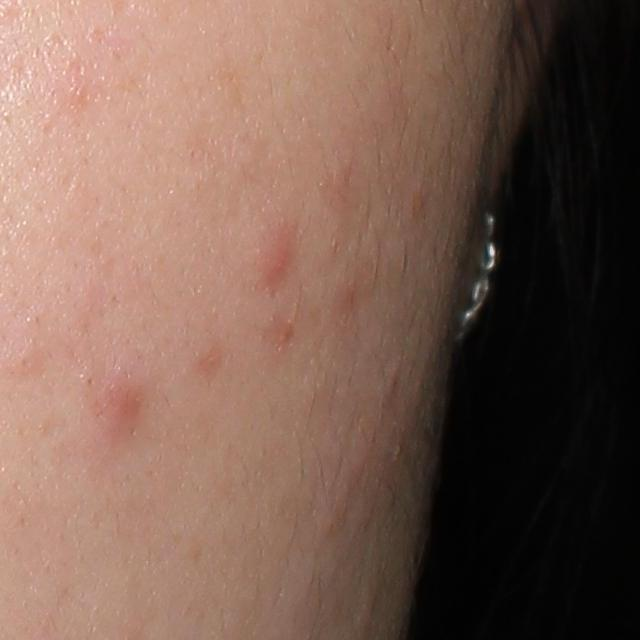comedo: (4, 346, 42, 376)
papule: (99, 377, 148, 442), (247, 226, 294, 288)
